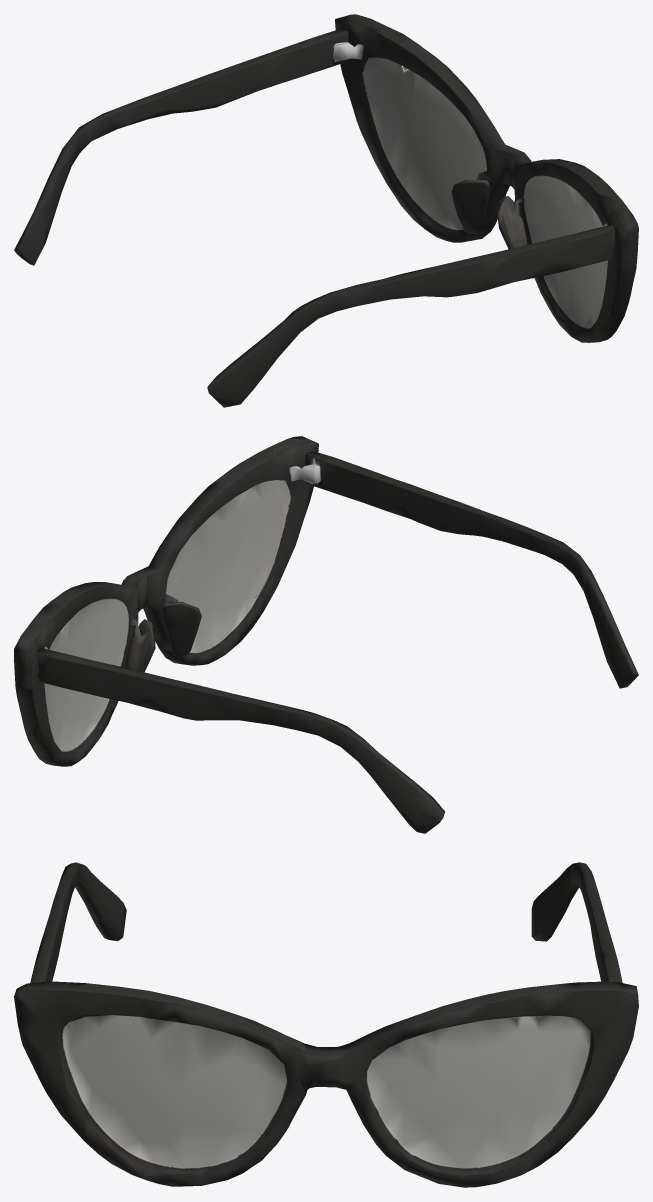
File: prop_glasses-cateye_f0c16d.glb
3 renders of one model, top to bottom at view 1: azimuth 30°, elevation 25°; view 2: azimuth 150°, elevation 25°; view 3: azimuth 270°, elevation 25°, orthographic. The views are drawn at different scales.
Parts seen in each view (by area): view 1: tripo_node_28593ec9-c9d9-4974-acf2-d070e4827734; view 2: tripo_node_28593ec9-c9d9-4974-acf2-d070e4827734; view 3: tripo_node_28593ec9-c9d9-4974-acf2-d070e4827734.
Boxes of the visible parts, x1,y1,x2,y2 form: tripo_node_28593ec9-c9d9-4974-acf2-d070e4827734: (14, 14, 638, 407); tripo_node_28593ec9-c9d9-4974-acf2-d070e4827734: (14, 436, 638, 833); tripo_node_28593ec9-c9d9-4974-acf2-d070e4827734: (14, 862, 638, 1187).
Size of the model in its own units: 0.829 by 0.3366 by 1.
1 material, 1 textured.
